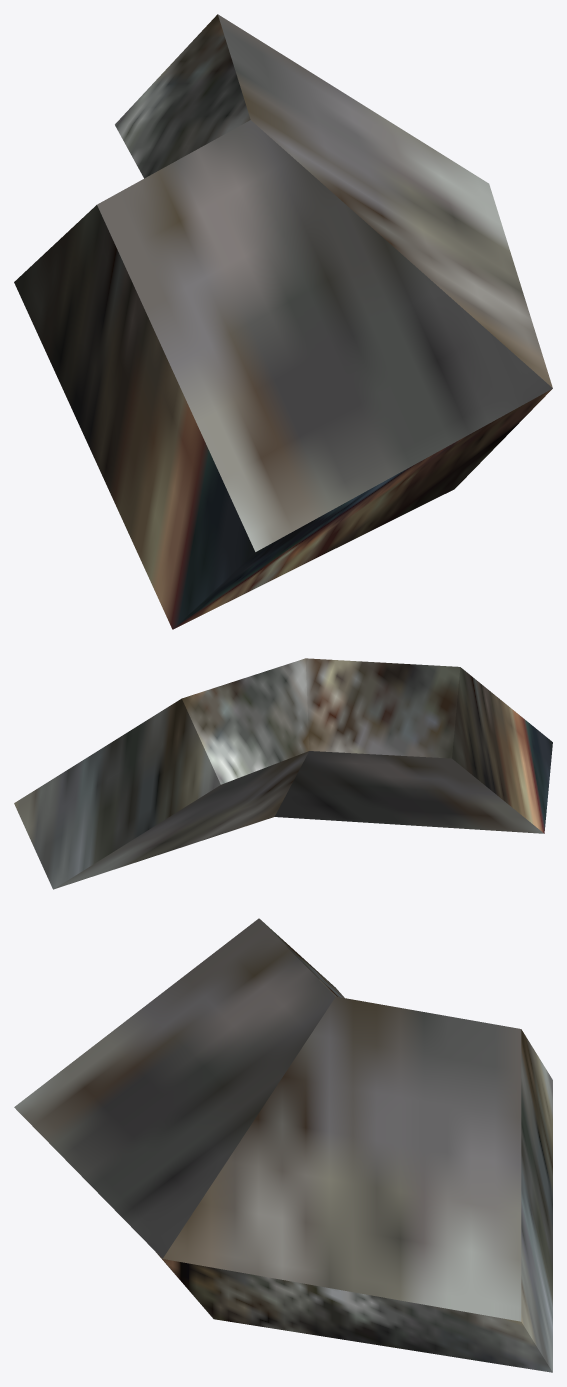
File: USA - Base Infrastructure - Power Plant - Damage State 30 - ABPWRPLANT_d30.glb
The picture shows the model from 3 angles, top to bottom: view 1: azimuth 30°, elevation 25°; view 2: azimuth 150°, elevation 25°; view 3: azimuth 270°, elevation 25°; orthographic projection. The views are drawn at different scales.
Visible parts, largest first — view 1: ABPWRPLANT_D30; view 2: ABPWRPLANT_D30; view 3: ABPWRPLANT_D30.
Part boxes in pixels (x1=…): ABPWRPLANT_D30: x1=14, y1=14, x2=552, y2=629; ABPWRPLANT_D30: x1=14, y1=658, x2=552, y2=889; ABPWRPLANT_D30: x1=14, y1=918, x2=552, y2=1372.
Bounding box in the file's own units: 5.51 × 3.06 × 5.47.
1 material, 1 textured.
